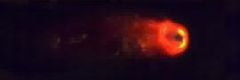keyhole: (170, 29, 184, 44)
